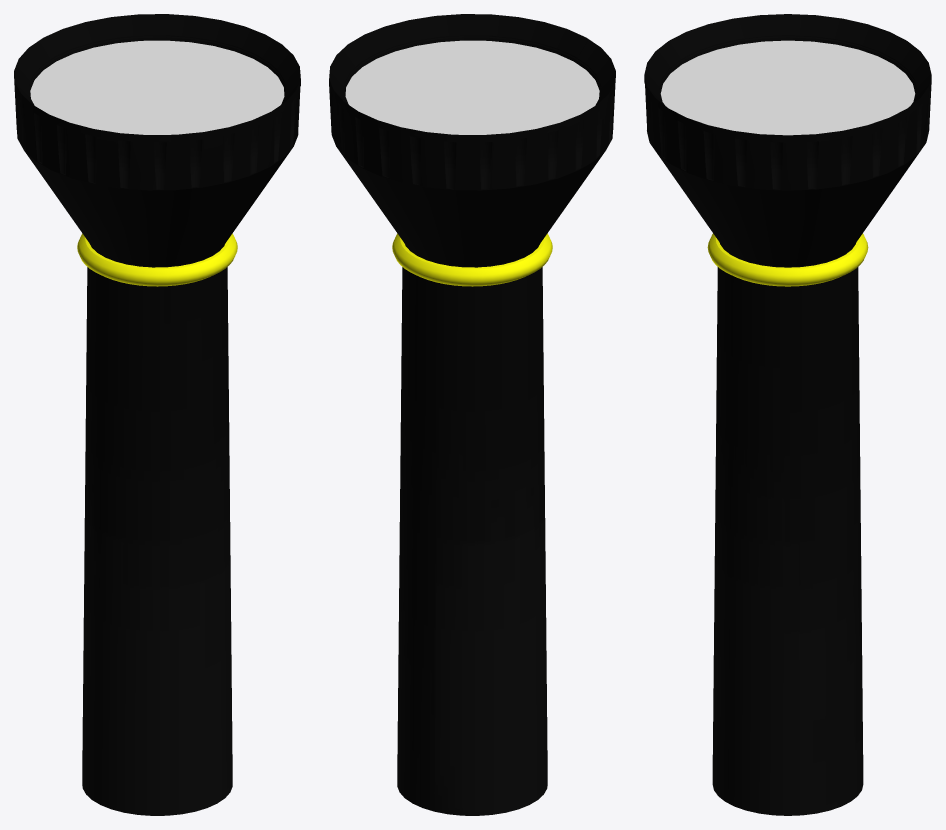
File: Linterna.fbx
3 views of the same model, side by side, from view 1: azimuth 30°, elevation 25°; view 2: azimuth 150°, elevation 25°; view 3: azimuth 270°, elevation 25° (orthographic).
Parts seen in each view (by area): view 1: CuerpoLinterna, Glass, Decoración; view 2: CuerpoLinterna, Glass, Decoración; view 3: CuerpoLinterna, Glass, Decoración.
Part boxes in pixels (x1=…): CuerpoLinterna: x1=14, y1=14, x2=300, y2=815; Glass: x1=30, y1=40, x2=284, y2=134; Decoración: x1=77, y1=233, x2=237, y2=286; CuerpoLinterna: x1=329, y1=14, x2=615, y2=815; Glass: x1=345, y1=40, x2=599, y2=134; Decoración: x1=392, y1=233, x2=552, y2=286; CuerpoLinterna: x1=644, y1=14, x2=931, y2=815; Glass: x1=660, y1=40, x2=915, y2=135; Decoración: x1=707, y1=233, x2=868, y2=286.
Size of the model in its own units: 55.09 by 150 by 55.09.
5 materials, 4 textured.
